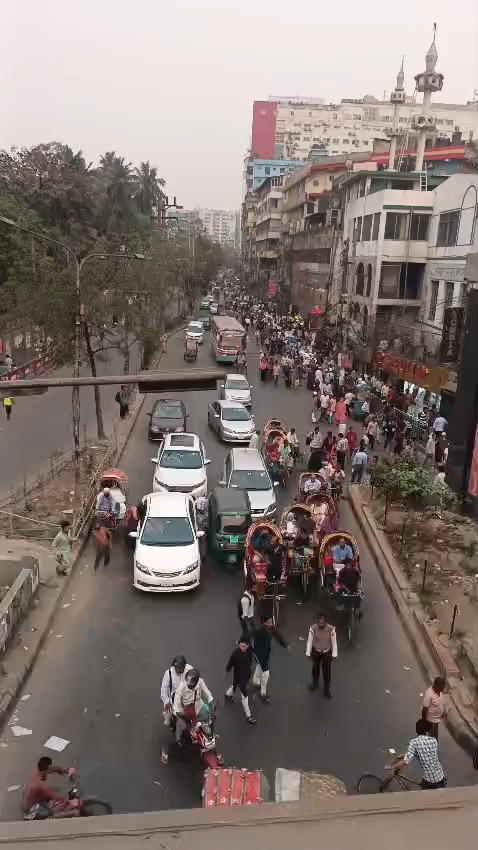Bus: (210, 314, 248, 366)
auto-ricksaw: (316, 530, 368, 646), (244, 521, 291, 630)
cng: (212, 485, 252, 569)
private car: (131, 489, 203, 597), (225, 442, 281, 522), (148, 433, 211, 503), (207, 399, 260, 442), (145, 396, 192, 440)
